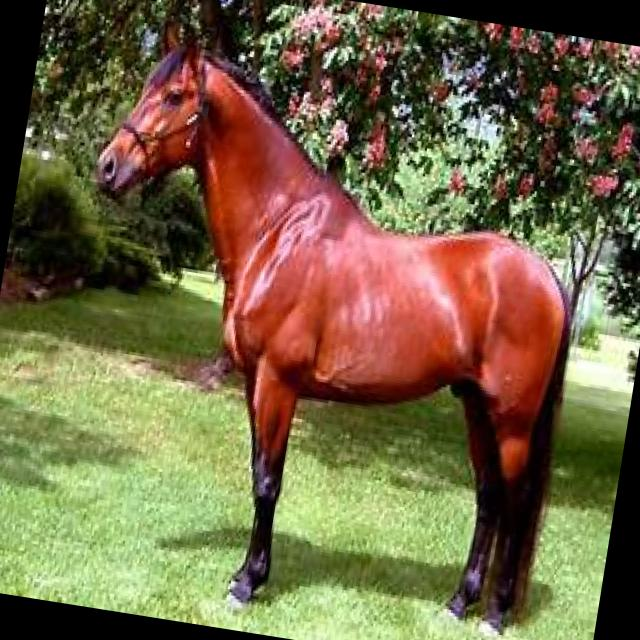animal: (34, 10, 603, 640)
